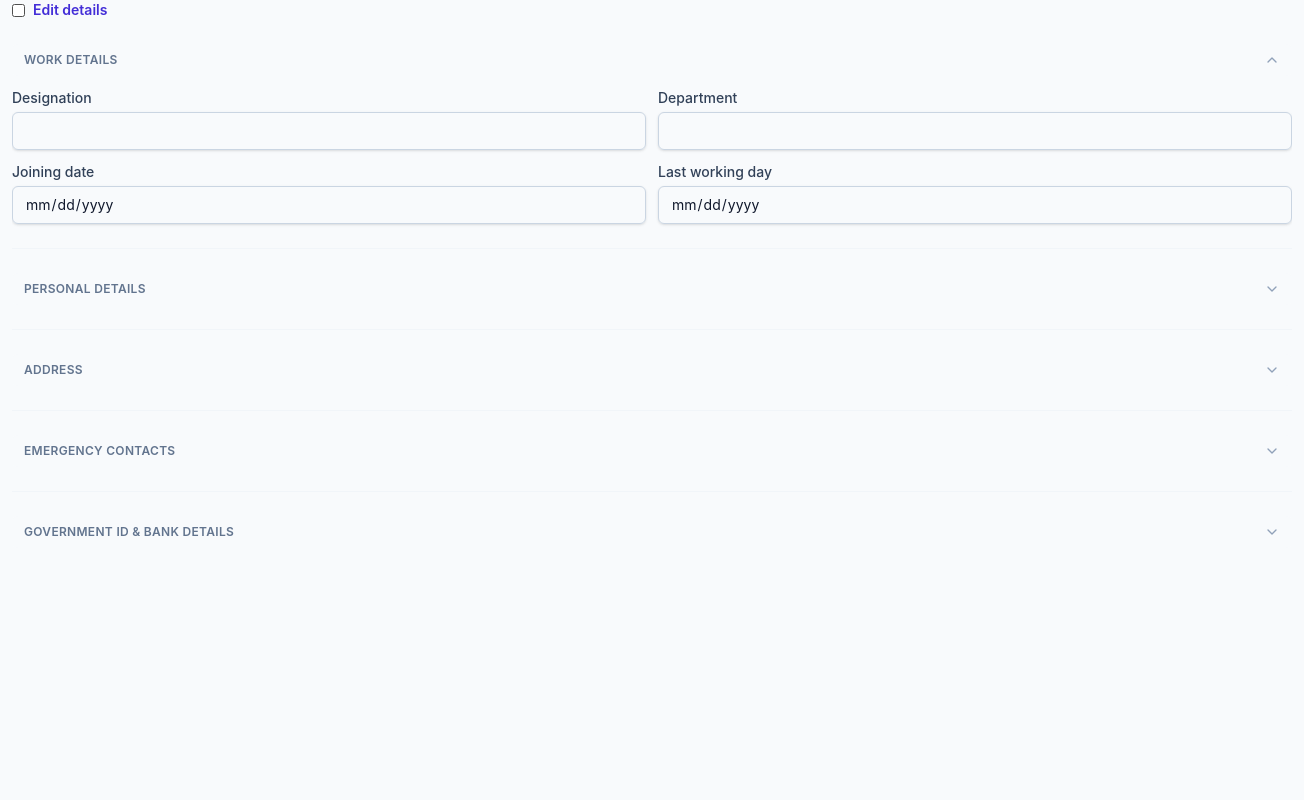
Scenario: ProfileForm › hides and clears the health insurance field once 'I don't have health insurance' is checked
The image size is (1304, 800).
Click the checkbox labelled "Edit details".
click(18, 10)  # box 12,4 -> 25,16
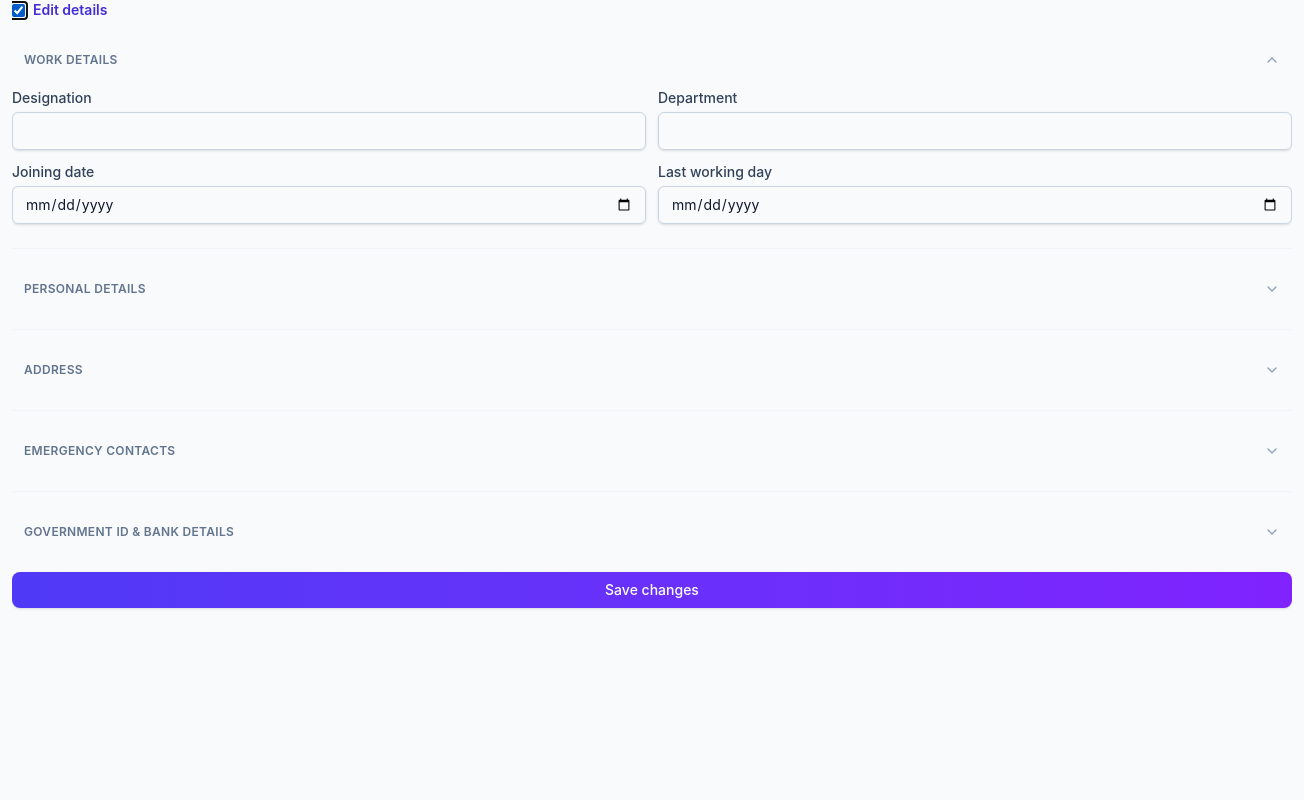
Click the button "Personal details".
click(85, 288)  # box 12,273 -> 1292,305
(page scrolled)
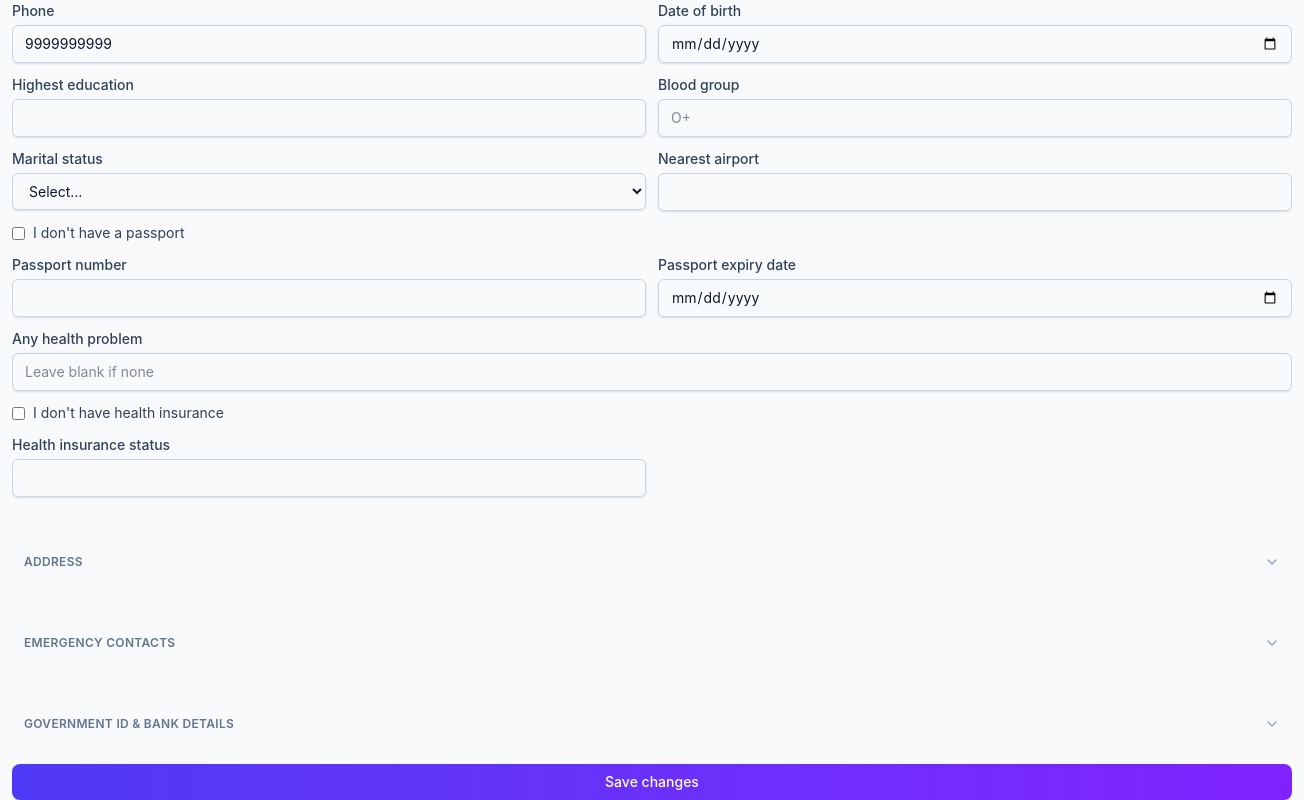
Type "Covered by employer" into the field labelled "Health insurance status".
click(329, 478); type("Covered by employer")  # box 12,459 -> 646,497
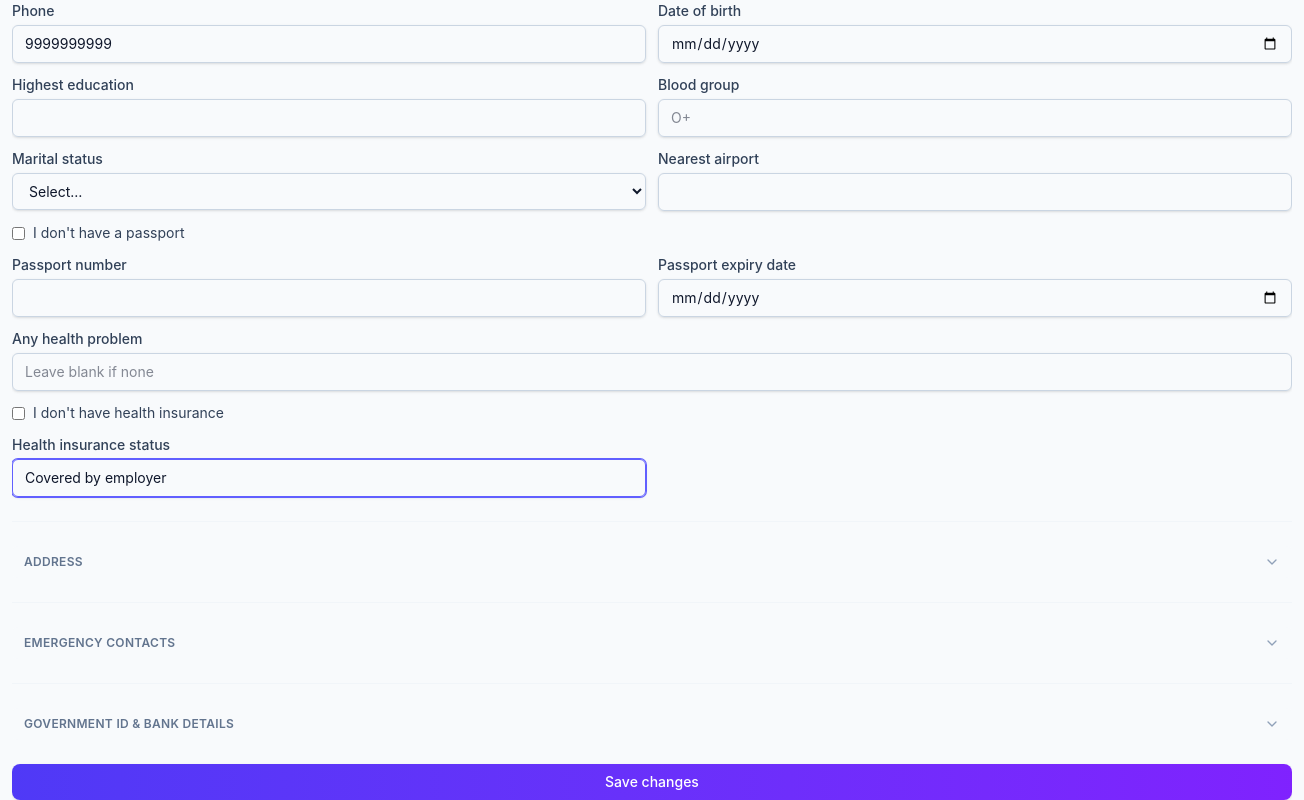
Click the checkbox labelled "I don't have health insurance".
click(18, 413)  # box 12,406 -> 25,420
(page scrolled)
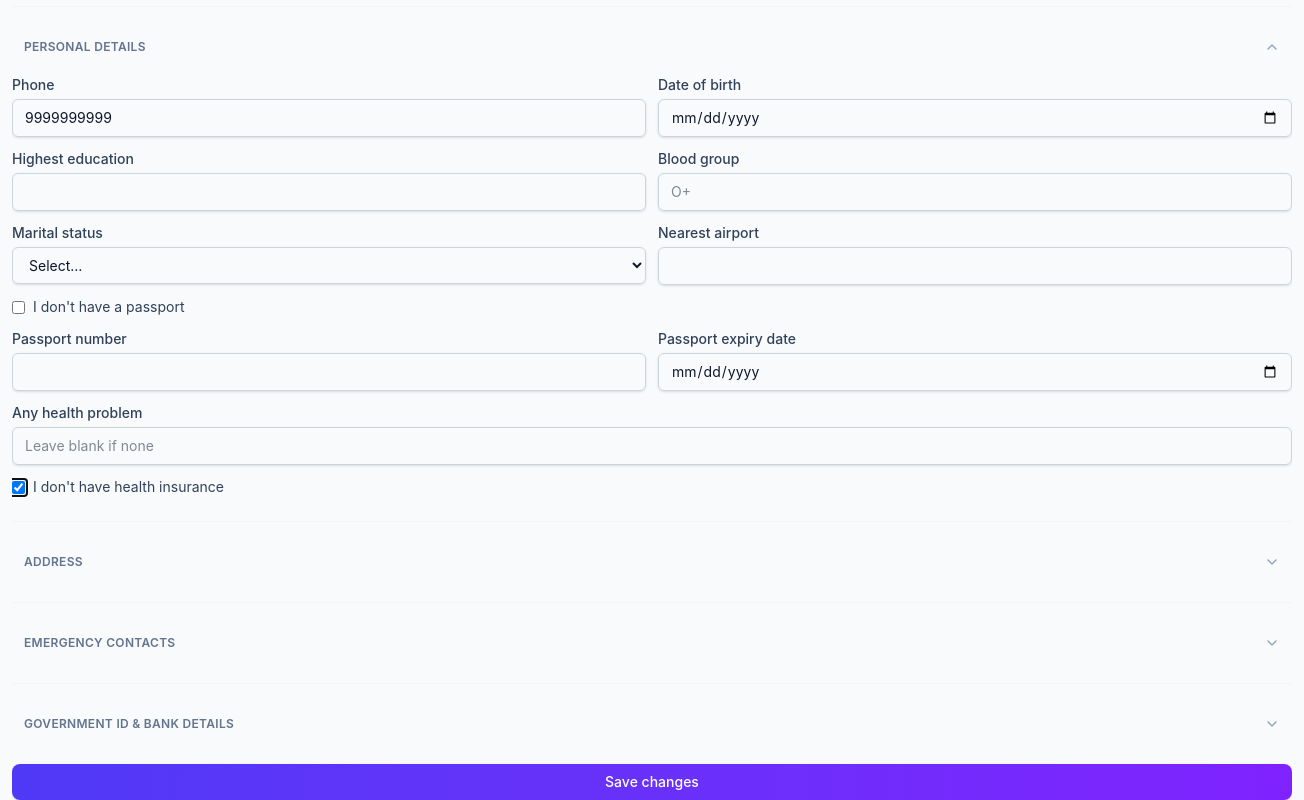
Check: the label labelled "Health insurance status" is gone
